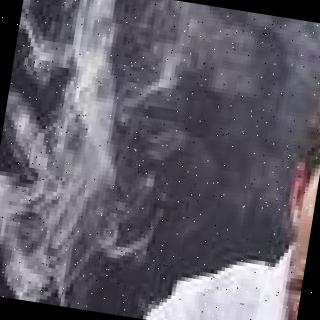smoke: (0, 0, 168, 315), (157, 1, 316, 169)
